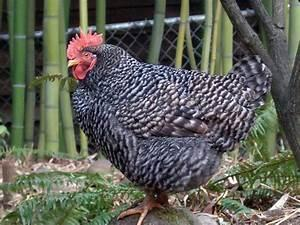hen: (65, 27, 272, 224)
